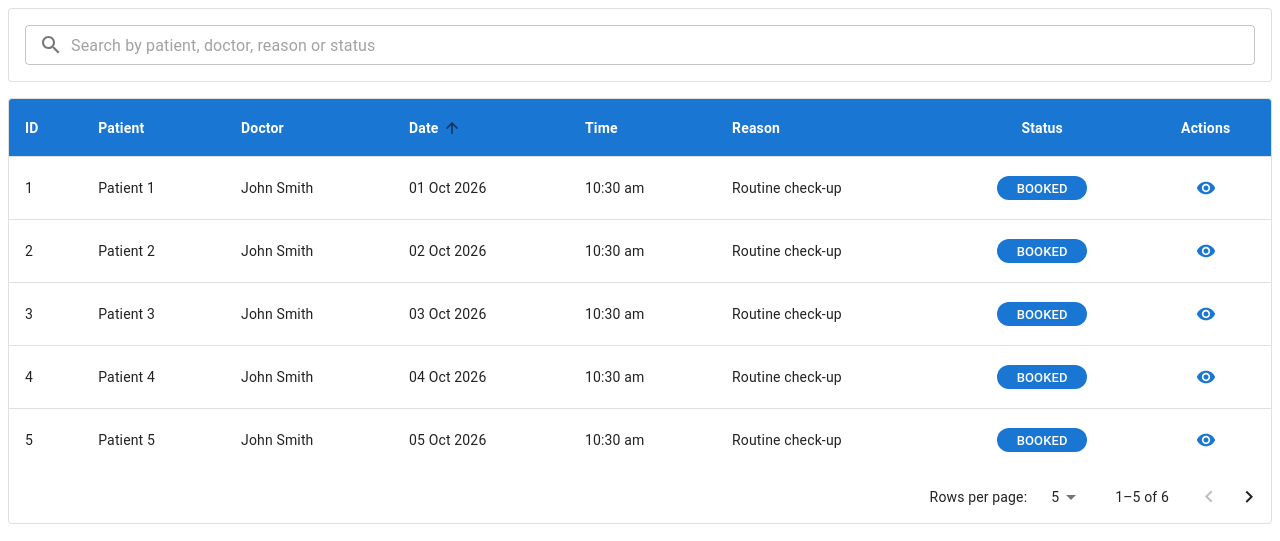
Test case: AppointmentTable › should paginate appointments
This screenshot has width=1280, height=541.
Check: the text "Patient 1" is shown, box [98,180,155,196]
Check: the text "Patient 6" is not shown
Click the button named "Go to next page": (1249, 497) [1229,477,1269,517]
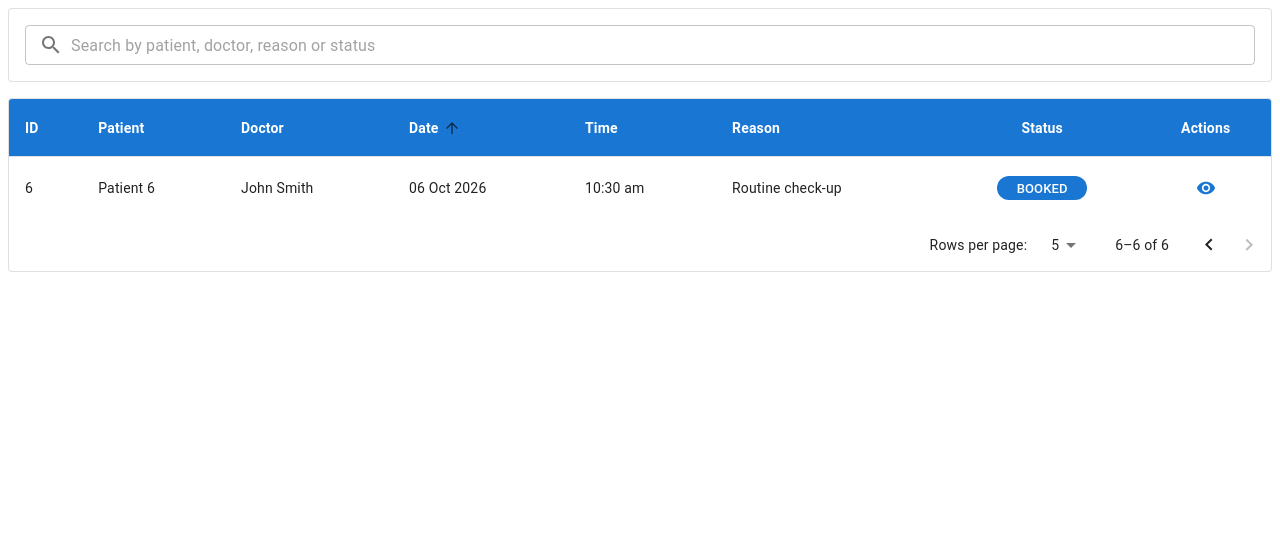
Check: the text "Patient 6" is shown, box [98,180,155,196]
Check: the text "6–6 of 6" is shown, box [1115,235,1169,255]
